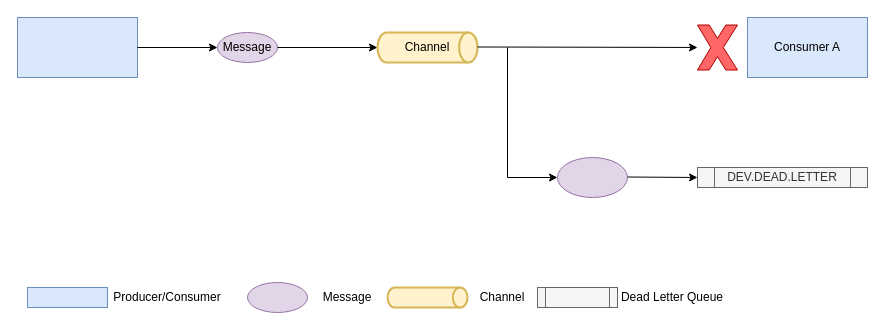
This 885x330 diagram has some shape labels left out. Here are the shapes that lost their labels. From the top down, the centre of each, then its label:
At [77,47]: "Producer".
At [592,177]: "Dead Message".
